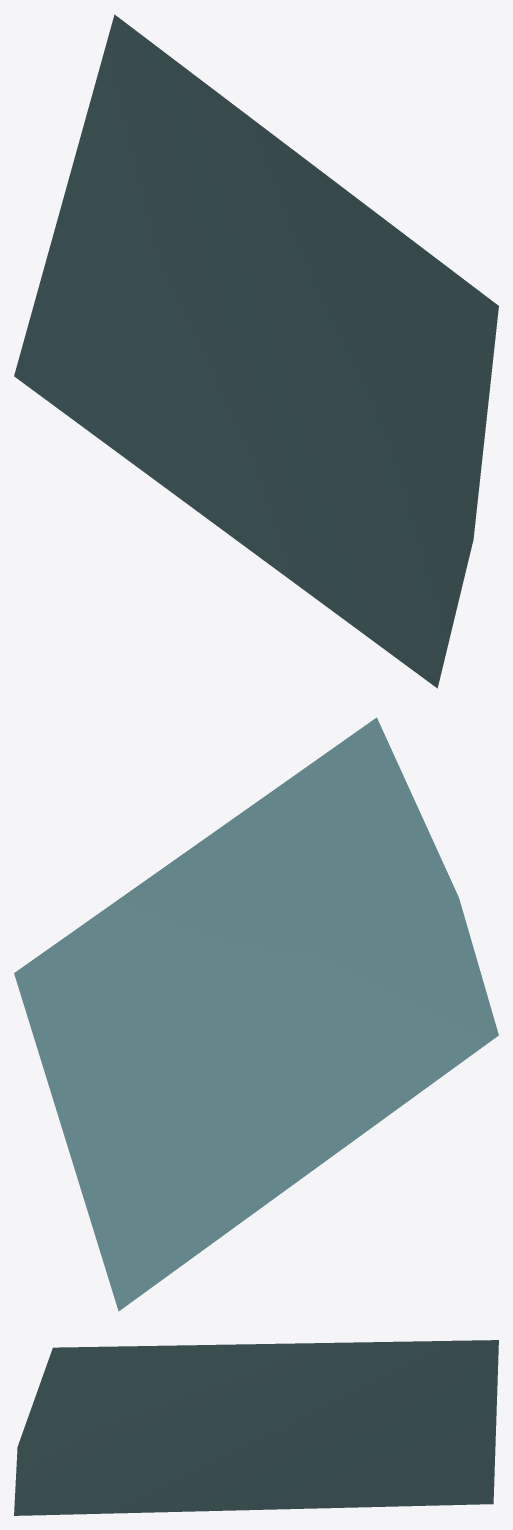
The model's file is Offroad_2_Window_Tessellate_FR.fbx.
3 views of the same model, one above another, from view 1: azimuth 30°, elevation 25°; view 2: azimuth 150°, elevation 25°; view 3: azimuth 270°, elevation 25° (orthographic). The views are drawn at different scales.
Visible parts, largest first — view 1: Offroad_2_Window_Tessellate_FR; view 2: Offroad_2_Window_Tessellate_FR; view 3: Offroad_2_Window_Tessellate_FR.
Part boxes in pixels (x1,y1,x2,y2): Offroad_2_Window_Tessellate_FR: (14, 14, 498, 688); Offroad_2_Window_Tessellate_FR: (14, 717, 498, 1311); Offroad_2_Window_Tessellate_FR: (14, 1340, 498, 1515).
Size of the model in its own units: 13.29 by 41.19 by 89.48.
